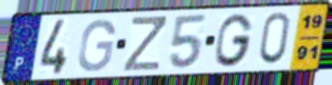0: (258, 11, 292, 67)
4: (38, 17, 69, 77)
5: (168, 13, 209, 71)
G: (213, 12, 255, 69), (75, 18, 117, 74)
Z: (121, 15, 169, 74)
